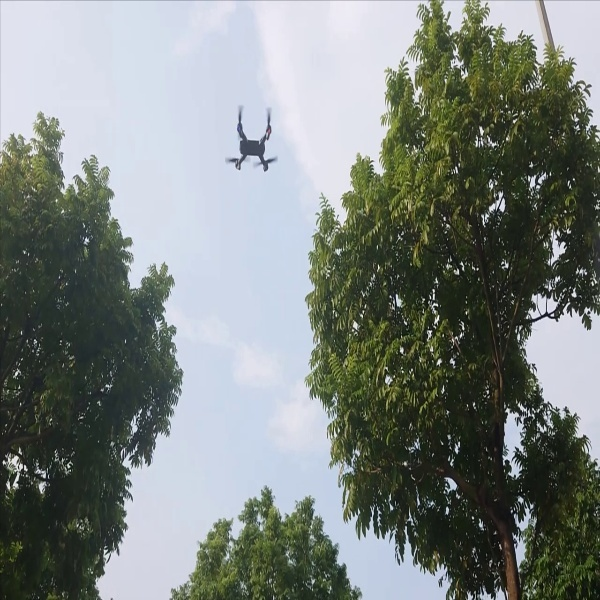drone: (224, 96, 284, 179)
